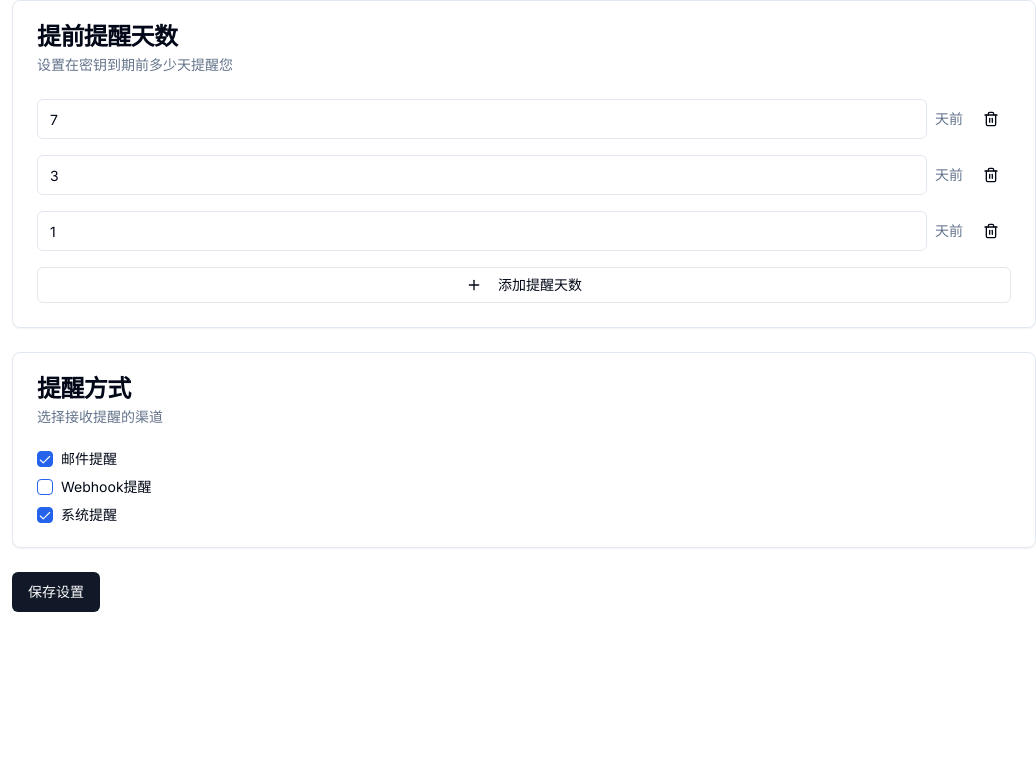
Scenario: ExpirationTab › 提醒天数设置 › 应该支持删除提醒天数
Click the 1st button named "删除" at (991, 119), box x1=971 y1=99 x2=1011 y2=139
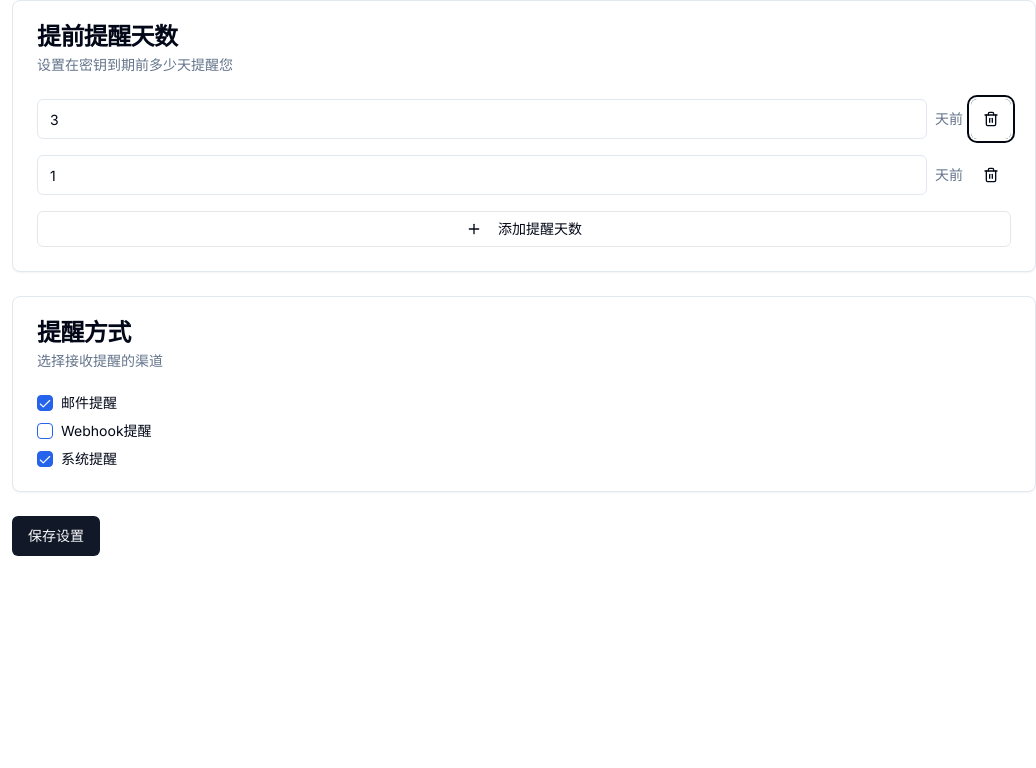
Expected: the number of number fields is 2, x1=37 y1=99 x2=927 y2=139; x1=37 y1=155 x2=927 y2=195
